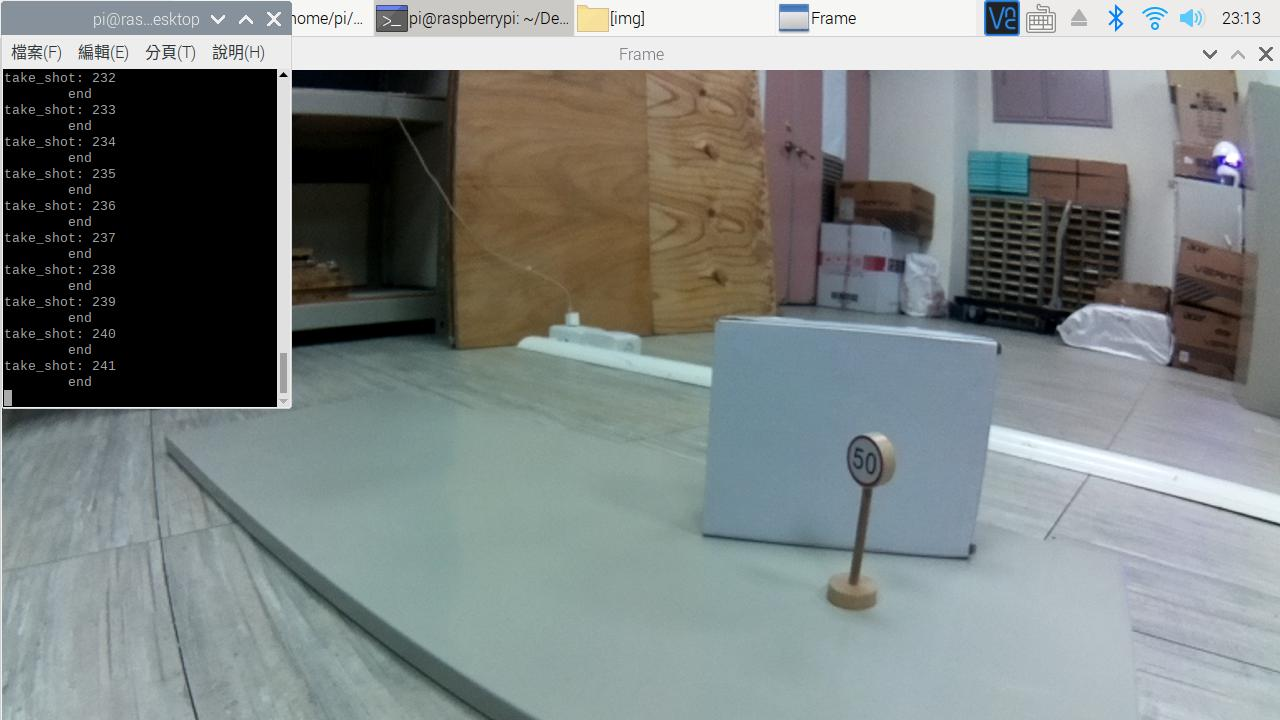Speed50: (831, 424, 912, 499)
